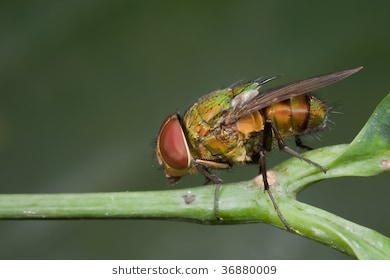green bottles flies: (147, 56, 371, 212)
